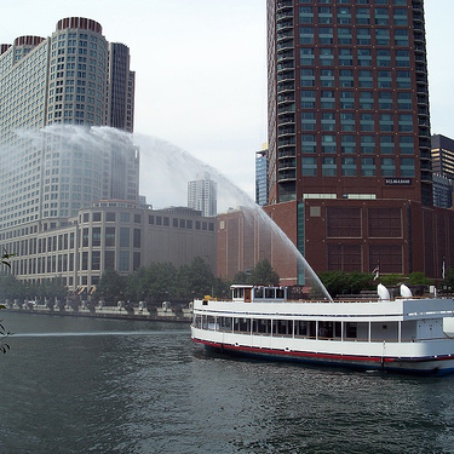boat: (188, 286, 454, 386)
building: (250, 1, 430, 292), (1, 22, 140, 236), (1, 208, 216, 286)
river: (23, 320, 454, 454)
sky: (140, 1, 250, 195)
